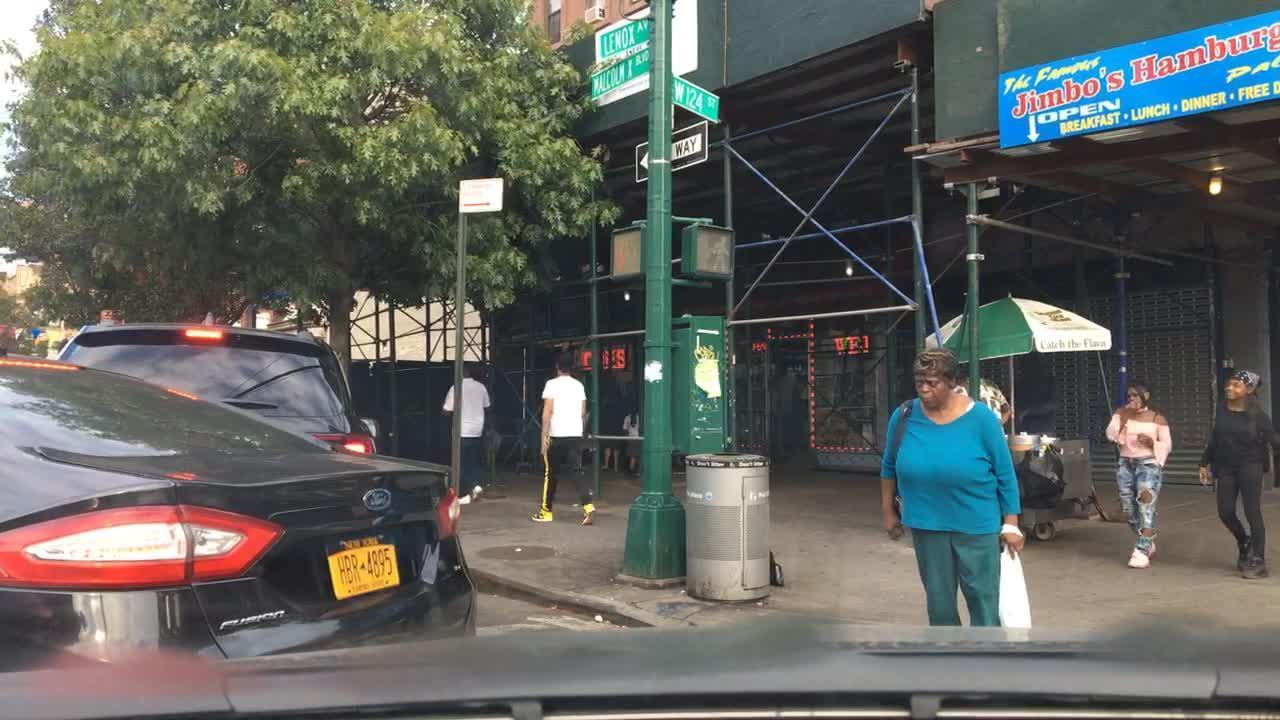ford: (357, 487, 397, 514)
